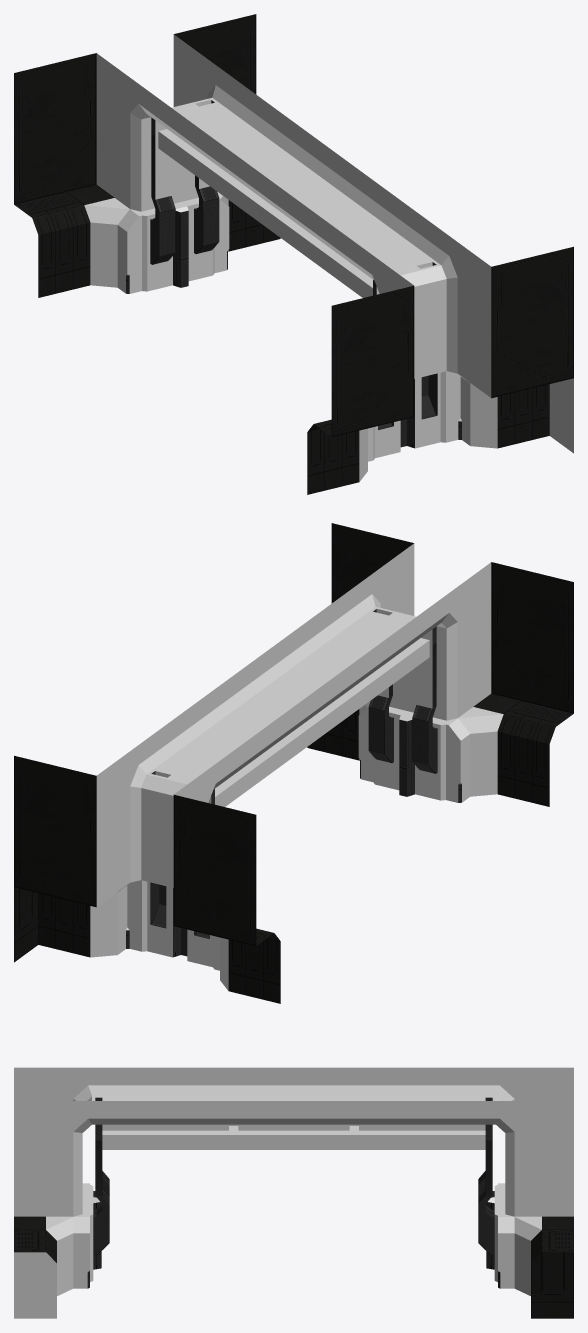
Rendered from security-gate.obj.
3 views of the same model, one above another, from view 1: azimuth 30°, elevation 25°; view 2: azimuth 150°, elevation 25°; view 3: azimuth 270°, elevation 25° (orthographic). The views are drawn at different scales.
Visible parts, largest first — view 1: Mesh1 NM_door__Large_non_BSP1 Model; view 2: Mesh1 NM_door__Large_non_BSP1 Model; view 3: Mesh1 NM_door__Large_non_BSP1 Model.
Part boxes in pixels (x1,y1,x2,y2): Mesh1 NM_door__Large_non_BSP1 Model: (14, 14, 573, 494); Mesh1 NM_door__Large_non_BSP1 Model: (14, 523, 573, 1003); Mesh1 NM_door__Large_non_BSP1 Model: (14, 1067, 573, 1318).
Size of the model in its own units: 10.3 by 8.41 by 23.4.
